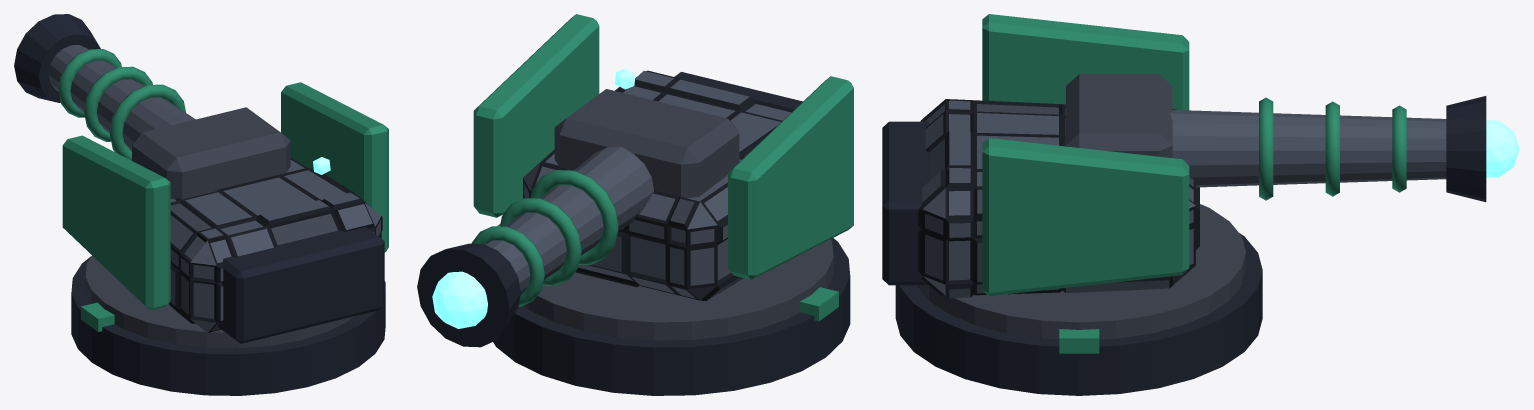
File: turret_mining_lasers.glb
3 renders of one model, left to right at view 1: azimuth 30°, elevation 25°; view 2: azimuth 150°, elevation 25°; view 3: azimuth 270°, elevation 25°, orthographic. The views are drawn at different scales.
Visible parts, largest first — view 1: Yaw_mesh, Pitch_mesh, Base_mesh; view 2: Yaw_mesh, Base_mesh, Pitch_mesh; view 3: Yaw_mesh, Base_mesh, Pitch_mesh.
Boxes of the visible parts, bbox=[...] form: Yaw_mesh: bbox=[62, 82, 388, 343]; Pitch_mesh: bbox=[14, 14, 290, 199]; Base_mesh: bbox=[71, 255, 385, 395]; Yaw_mesh: bbox=[473, 14, 853, 300]; Base_mesh: bbox=[493, 224, 850, 395]; Pitch_mesh: bbox=[417, 89, 739, 347]; Yaw_mesh: bbox=[882, 14, 1199, 298]; Base_mesh: bbox=[895, 204, 1262, 395]; Pitch_mesh: bbox=[1066, 74, 1519, 202].
Size of the model in its own units: 1.12 by 0.7876 by 1.91.
